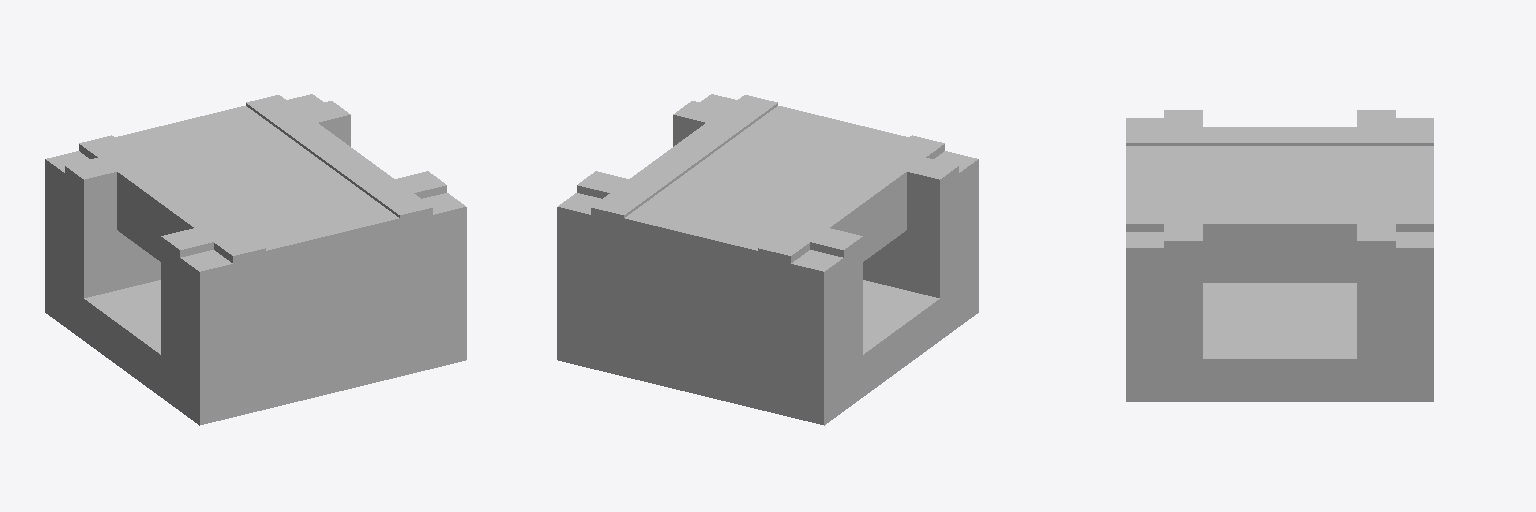
The model's file is tile165.obj.
3 renders of one model, left to right at view 1: azimuth 30°, elevation 25°; view 2: azimuth 150°, elevation 25°; view 3: azimuth 270°, elevation 25°, orthographic.
Visible parts, largest first — view 1: tile165; view 2: tile165; view 3: tile165.
Boxes of the visible parts, box(x1,y1,x2,y2) form: tile165: box(45, 94, 466, 425); tile165: box(557, 94, 978, 425); tile165: box(1126, 110, 1433, 401).
Size of the model in its own units: 1 by 0.5767 by 1.